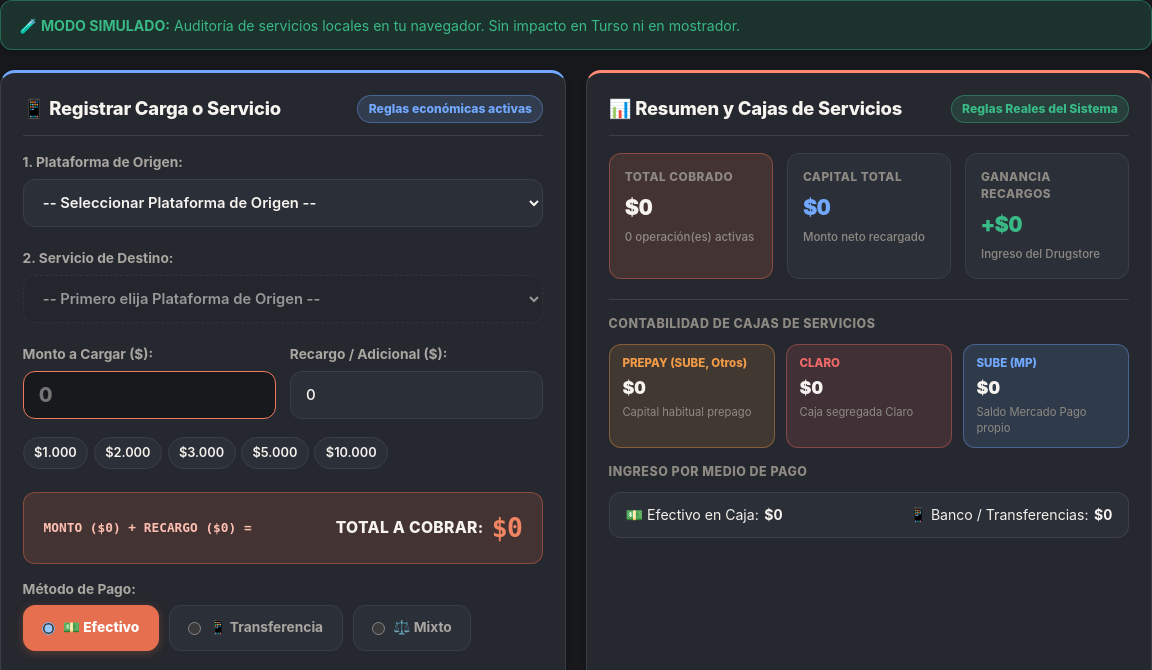
it: GenaroPOS — Navegación Móvil, Buscador Unificado y Servicios Vacío › 3. Servicios con Empresa Vacía › Rechaza la confirmación sin plataforma y servicio seleccionados con mensaje claro
This screenshot has width=1152, height=670.
Type "2000" into the number field with test id "input-service-amount" at (149, 394), box [23,370,276,418]
(page scrolled)
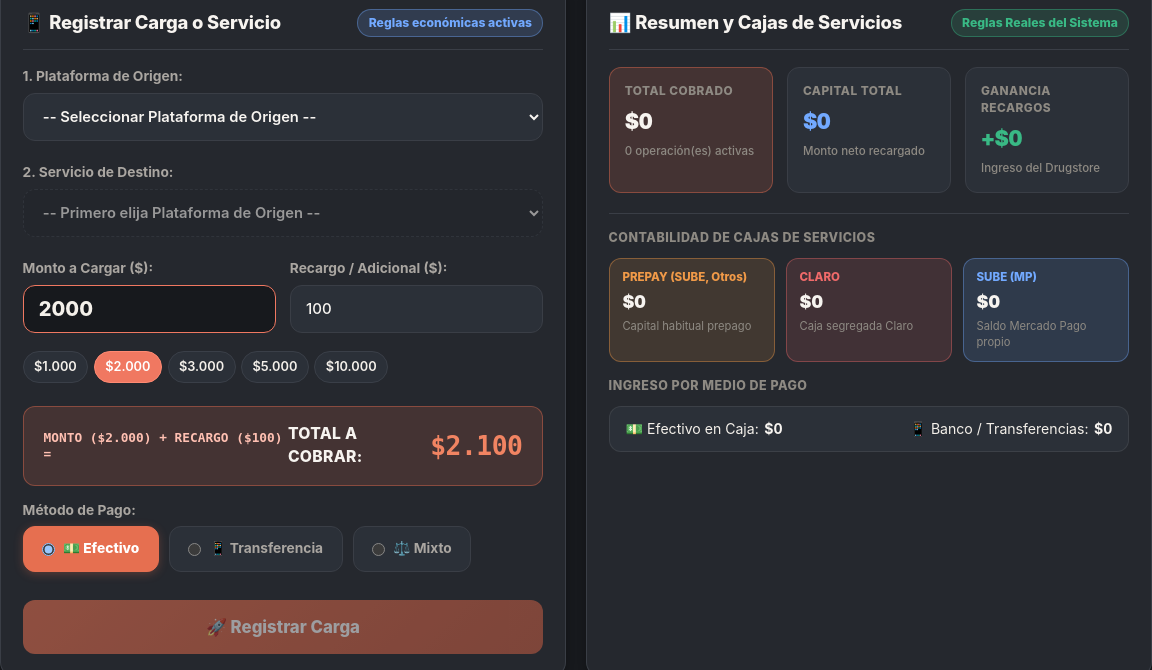
Submit the form with test id "services-form", box [23,67,543,654]
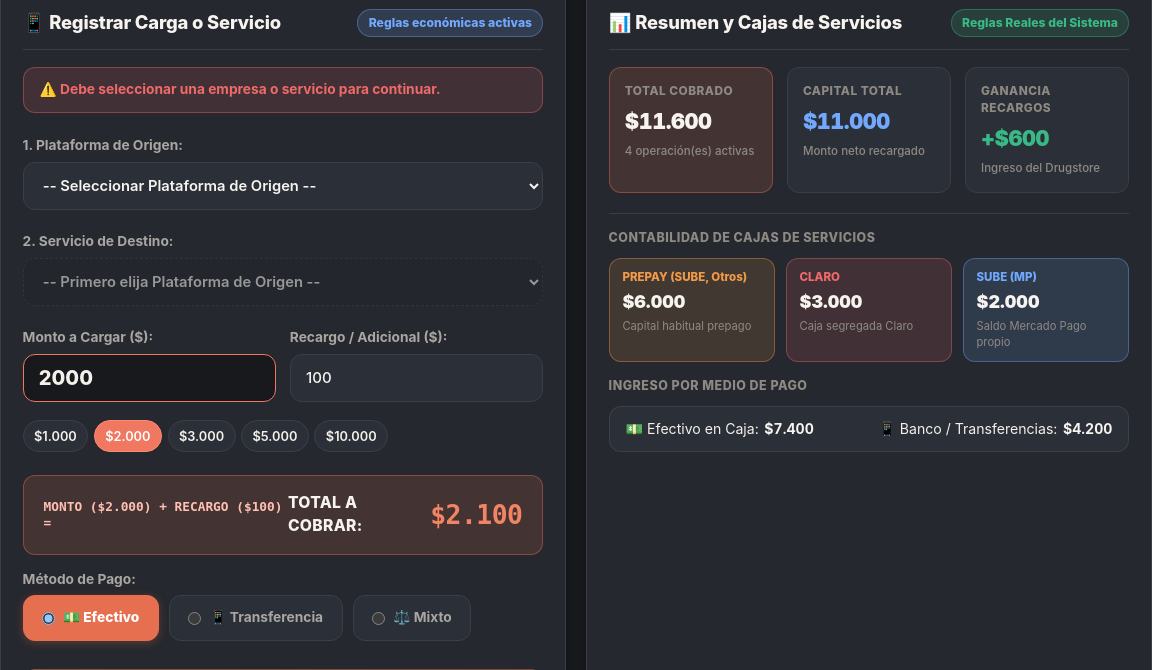
Now the text "⚠️ Debe seleccionar una empresa o servicio para continuar." is shown, box [23,67,543,113]
Now the text with test id "services-form-error" shows "Debe seleccionar una empresa o servicio para continuar.", box [60,81,440,97]
